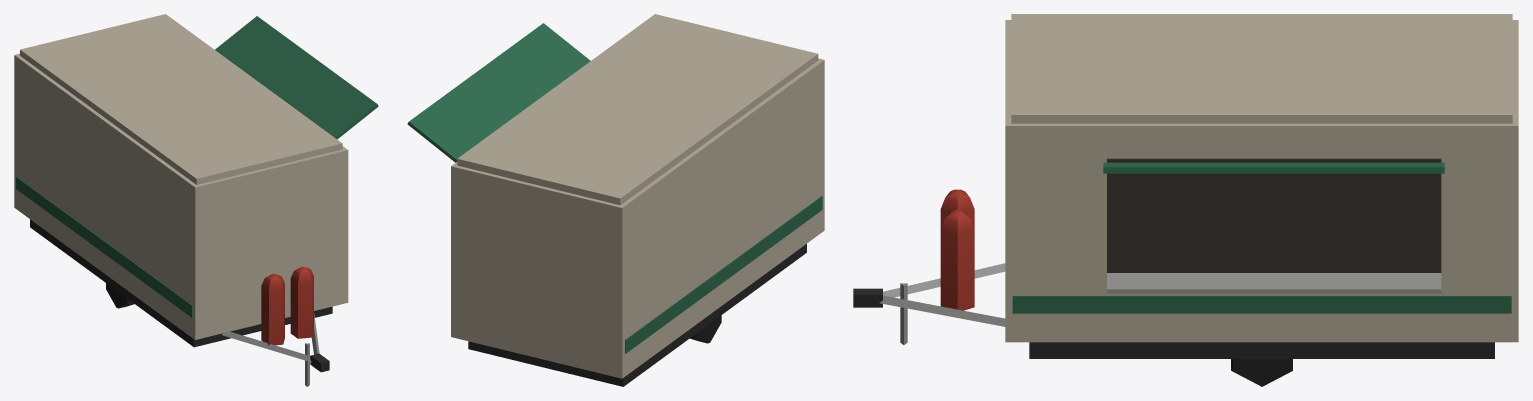
File: SM_Prop_road_burgervan_1_LOD2.glb
3 renders of one model, left to right at view 1: azimuth 30°, elevation 25°; view 2: azimuth 150°, elevation 25°; view 3: azimuth 270°, elevation 25°, orthographic. The views are drawn at different scales.
Parts seen in each view (by area): view 1: SM_Prop_road_burgervan_1_LOD2; view 2: SM_Prop_road_burgervan_1_LOD2; view 3: SM_Prop_road_burgervan_1_LOD2.
Part boxes in pixels (box(x1,y1,x2,y2)): SM_Prop_road_burgervan_1_LOD2: box(14, 14, 378, 386); SM_Prop_road_burgervan_1_LOD2: box(407, 14, 824, 386); SM_Prop_road_burgervan_1_LOD2: box(853, 14, 1518, 386).
Bounding box in the file's own units: 3 × 2.58 × 5.58.
